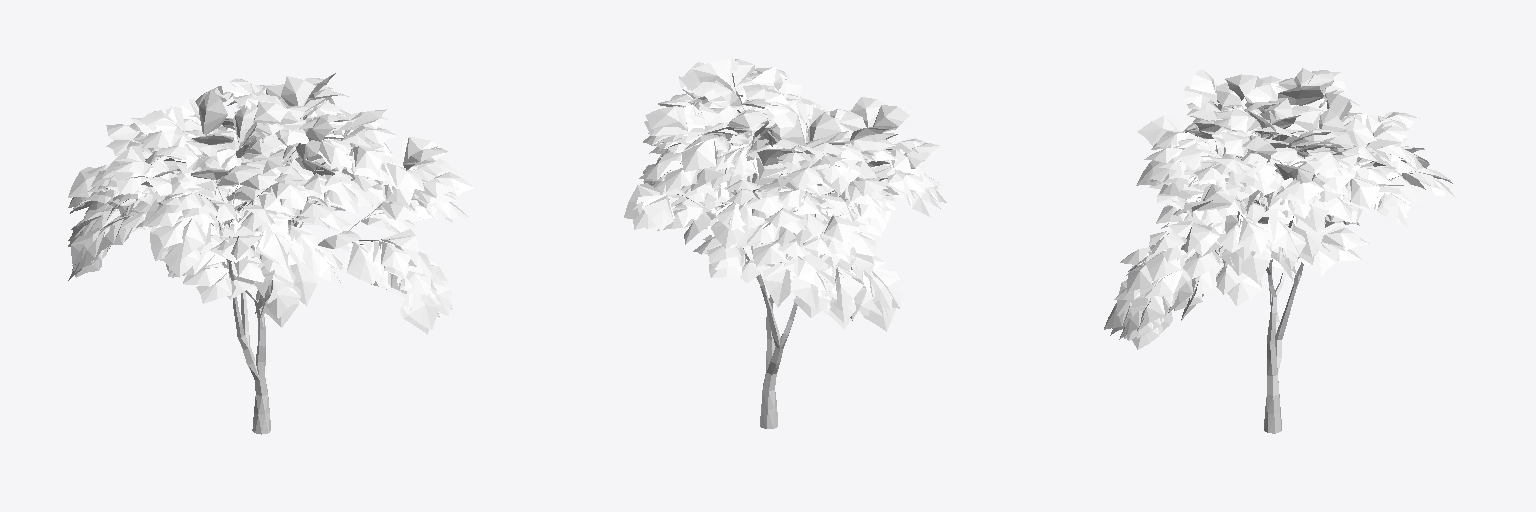
File: arvore.obj
3 views of the same model, side by side, from view 1: azimuth 30°, elevation 25°; view 2: azimuth 150°, elevation 25°; view 3: azimuth 270°, elevation 25° (orthographic).
Visible parts, largest first — view 1: Tree_polySurface1 g1 g2 polySurface1, Tree_polySurface1 g1 polySurface1; view 2: Tree_polySurface1 g1 g2 polySurface1, Tree_polySurface1 g1 polySurface1; view 3: Tree_polySurface1 g1 g2 polySurface1, Tree_polySurface1 g1 polySurface1.
Boxes of the visible parts, <box> form: Tree_polySurface1 g1 g2 polySurface1: <box>68,73,473,334</box>; Tree_polySurface1 g1 polySurface1: <box>93,97,404,434</box>; Tree_polySurface1 g1 g2 polySurface1: <box>624,58,946,331</box>; Tree_polySurface1 g1 polySurface1: <box>667,88,890,428</box>; Tree_polySurface1 g1 g2 polySurface1: <box>1104,68,1455,349</box>; Tree_polySurface1 g1 polySurface1: <box>1198,102,1413,433</box>.
Size of the model in its own units: 3.63 by 3.82 by 3.55.